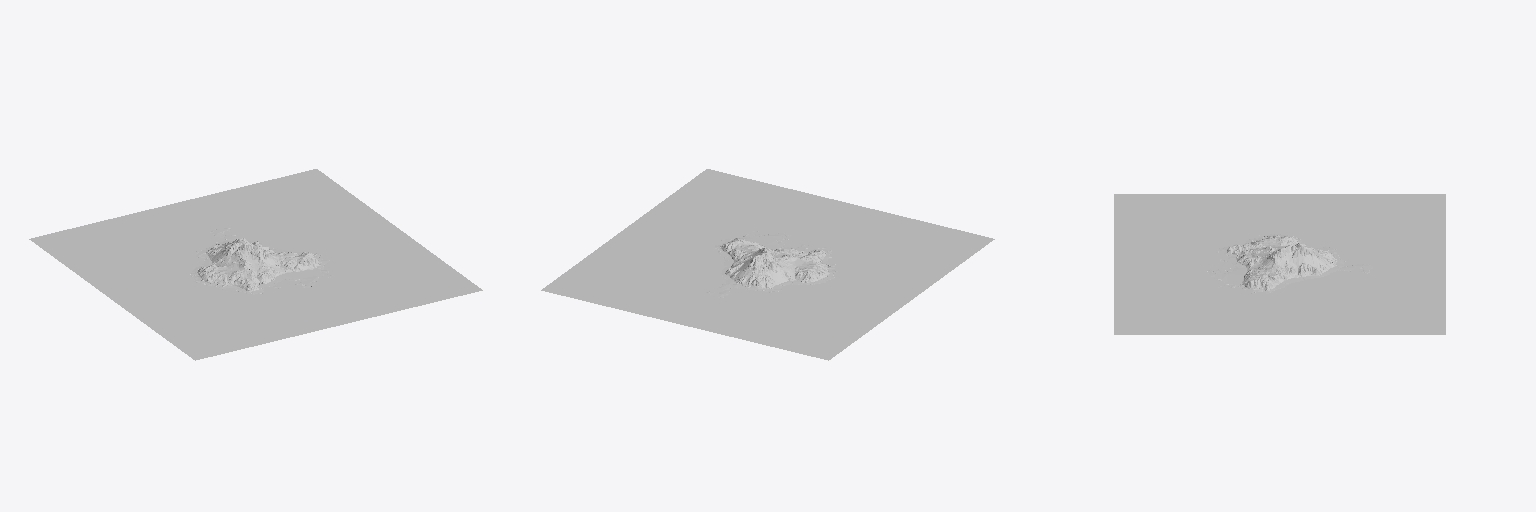
Rendered from ground.obj.
3 renders of one model, left to right at view 1: azimuth 30°, elevation 25°; view 2: azimuth 150°, elevation 25°; view 3: azimuth 270°, elevation 25°, orthographic.
Parts seen in each view (by area): view 1: island; view 2: island; view 3: island.
Boxes of the visible parts, <box> form: island: <box>29,169,482,360</box>; island: <box>541,169,994,360</box>; island: <box>1114,194,1445,334</box>.
Size of the model in its own units: 2 by 0.1207 by 2.